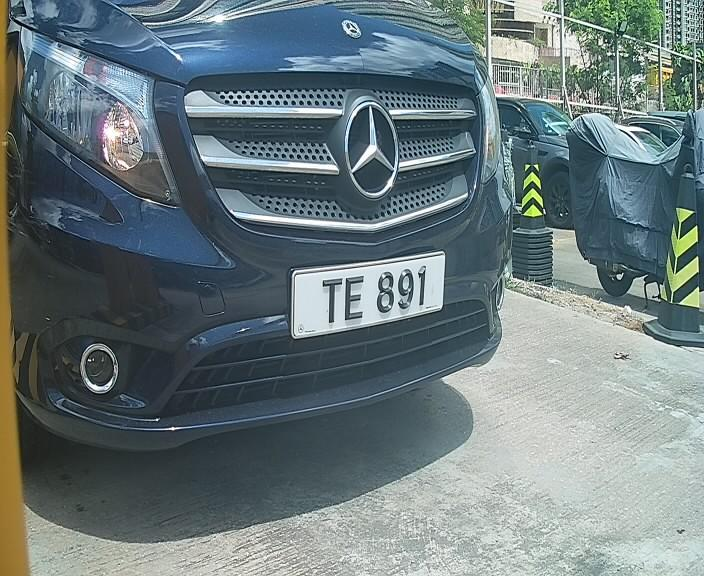License Plate: (290, 250, 447, 337)
